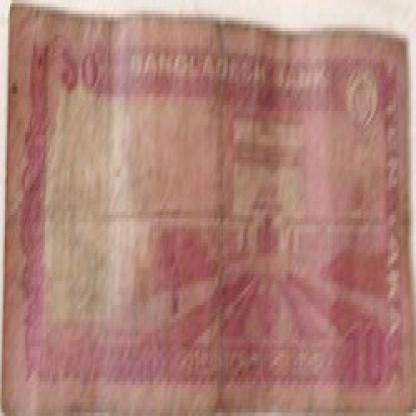Ten Taka: (55, 42, 105, 111), (348, 316, 391, 395)
